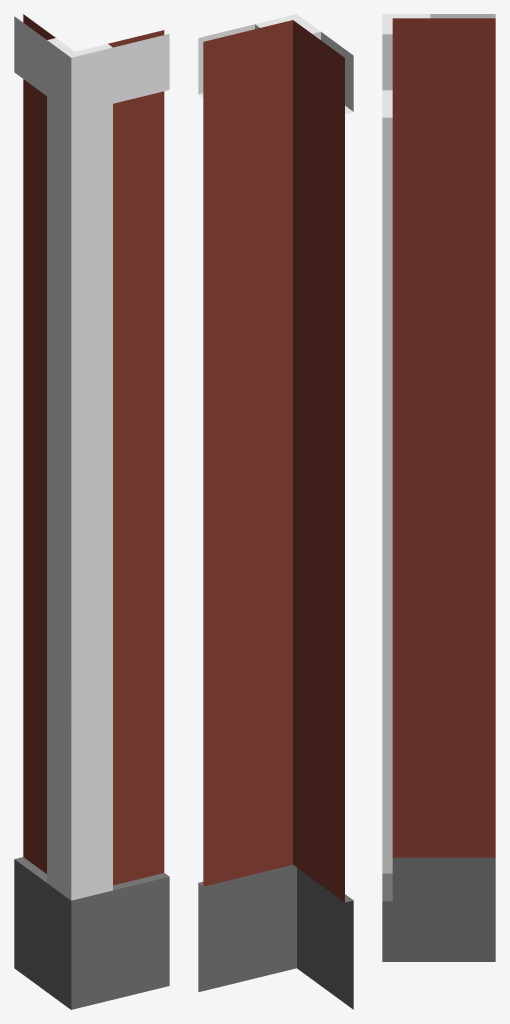
3 renders of one model, left to right at view 1: azimuth 30°, elevation 25°; view 2: azimuth 210°, elevation 25°; view 3: azimuth 270°, elevation 25°, orthographic.
Parts seen in each view (by area): view 1: a2015/600/base-c1; view 2: a2015/600/base-c1; view 3: a2015/600/base-c1.
Boxes of the visible parts, left/top/right/bottom form: a2015/600/base-c1: left=14, top=14, right=169, bottom=1009; a2015/600/base-c1: left=198, top=14, right=353, bottom=1009; a2015/600/base-c1: left=382, top=14, right=495, bottom=961.
Size of the model in its own units: 0.33 by 3.05 by 0.33.
